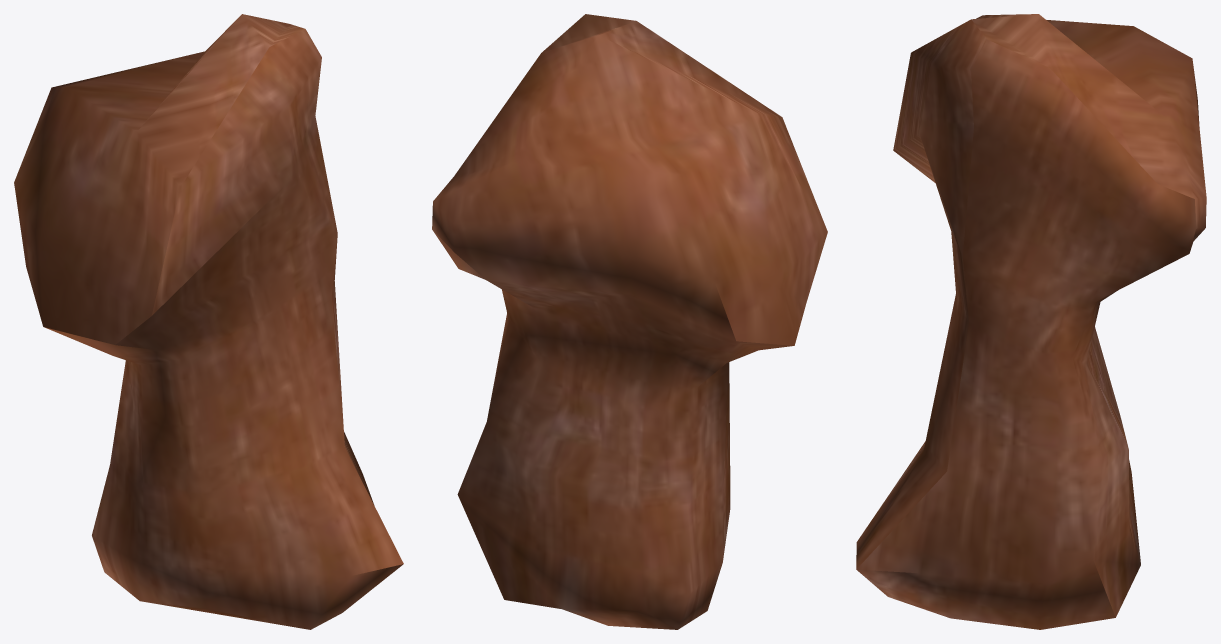
File: Canyon_Rock_Formations_4.glb
The picture shows the model from 3 angles, left to right: view 1: azimuth 30°, elevation 25°; view 2: azimuth 150°, elevation 25°; view 3: azimuth 270°, elevation 25°; orthographic projection. The views are drawn at different scales.
Visible parts, largest first — view 1: Canyon_Rock_Formations_4_0; view 2: Canyon_Rock_Formations_4_0; view 3: Canyon_Rock_Formations_4_0.
Boxes of the visible parts, x1=… form: Canyon_Rock_Formations_4_0: x1=14, y1=14, x2=403, y2=629; Canyon_Rock_Formations_4_0: x1=432, y1=14, x2=827, y2=629; Canyon_Rock_Formations_4_0: x1=856, y1=14, x2=1206, y2=629.
Bounding box in the file's own units: 6.72 × 11.51 × 6.15.
Materials: 1 (1 with a texture image).
